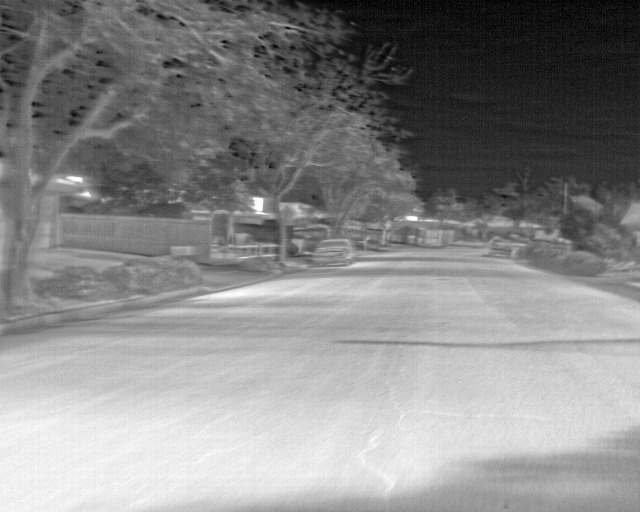vehicle: (312, 238, 357, 268)
